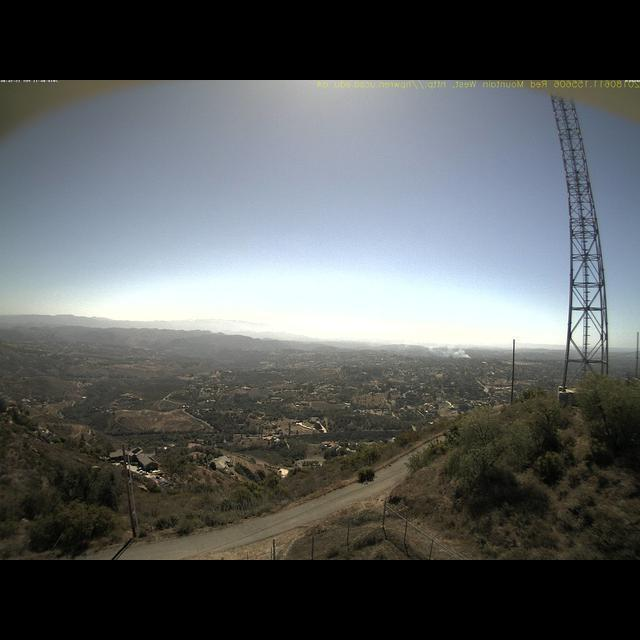Smoke: (418, 332, 473, 360)
